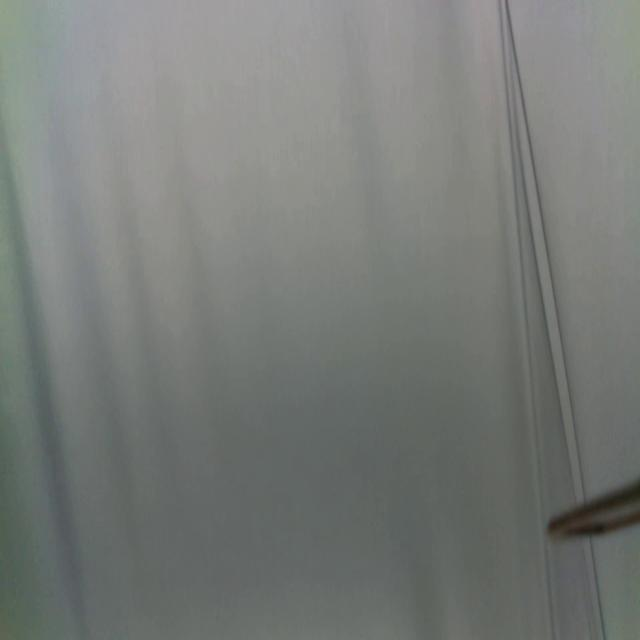crease: (508, 0, 586, 499), (500, 1, 554, 638), (590, 536, 606, 640)
